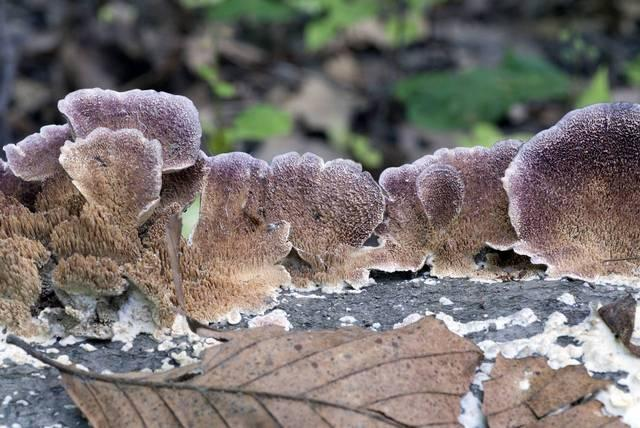Non-edible Mushroom: (1, 85, 638, 335), (500, 99, 639, 284)
